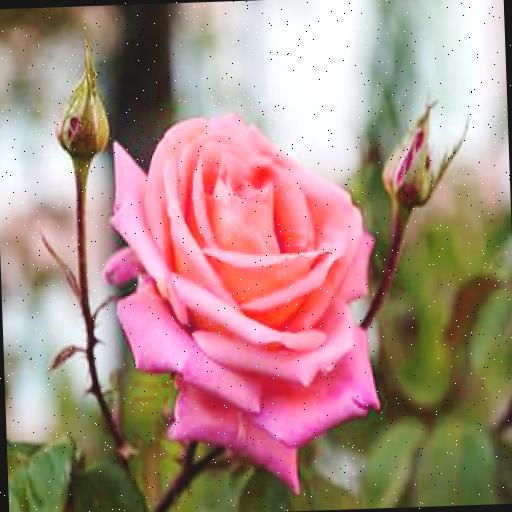rose: (105, 104, 376, 494)
